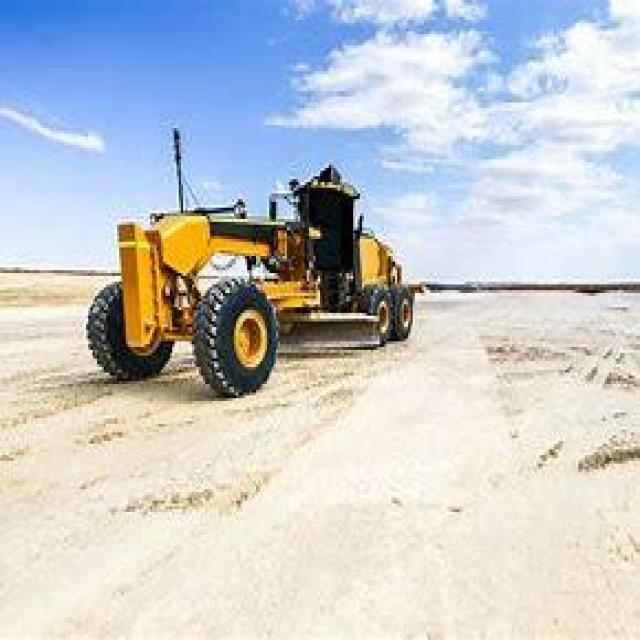buldozerpayloadergrader: (62, 159, 424, 404)
